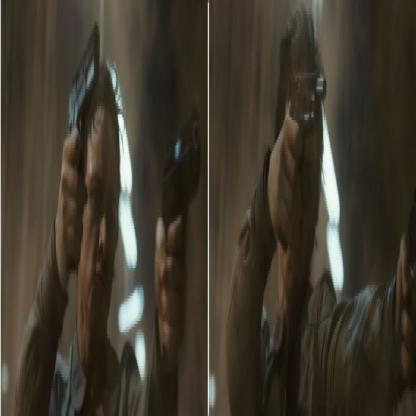Guns: (159, 100, 200, 354), (274, 64, 328, 251), (67, 14, 99, 257)
